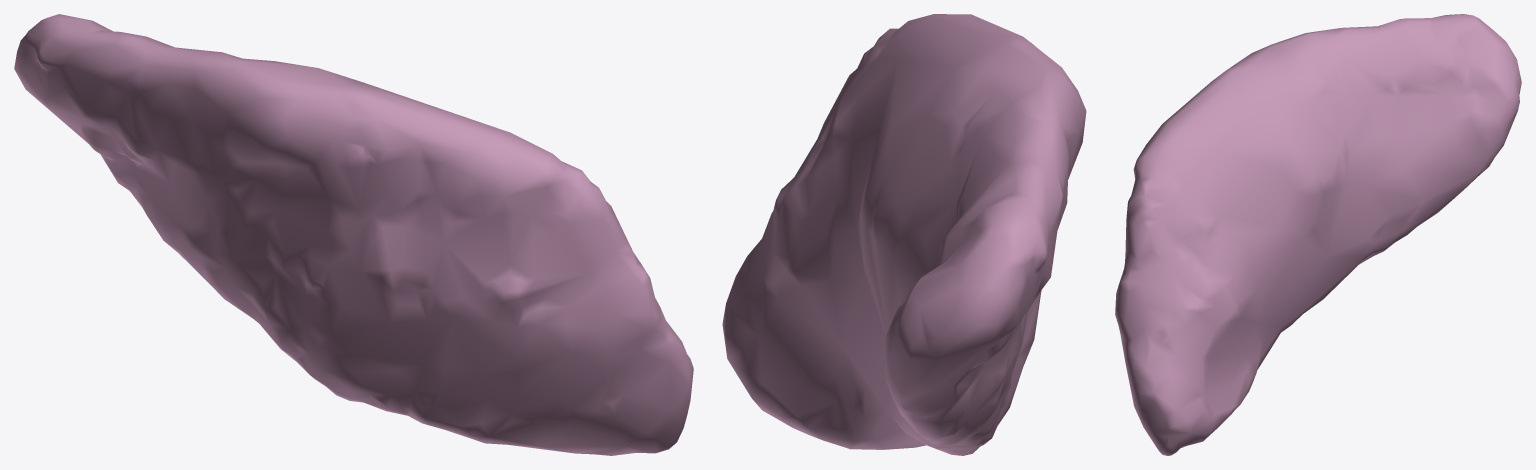
3 views of the same model, side by side, from view 1: azimuth 30°, elevation 25°; view 2: azimuth 150°, elevation 25°; view 3: azimuth 270°, elevation 25° (orthographic). The views are drawn at different scales.
Visible parts, largest first — view 1: 右侧泪腺; view 2: 右侧泪腺; view 3: 右侧泪腺.
Part boxes in pixels (x1,y1,x2,y2): 右侧泪腺: [14, 14, 693, 455]; 右侧泪腺: [722, 14, 1086, 455]; 右侧泪腺: [1115, 14, 1521, 455].
Size of the model in its own units: 0.0265 by 0.0223 by 0.0271.
